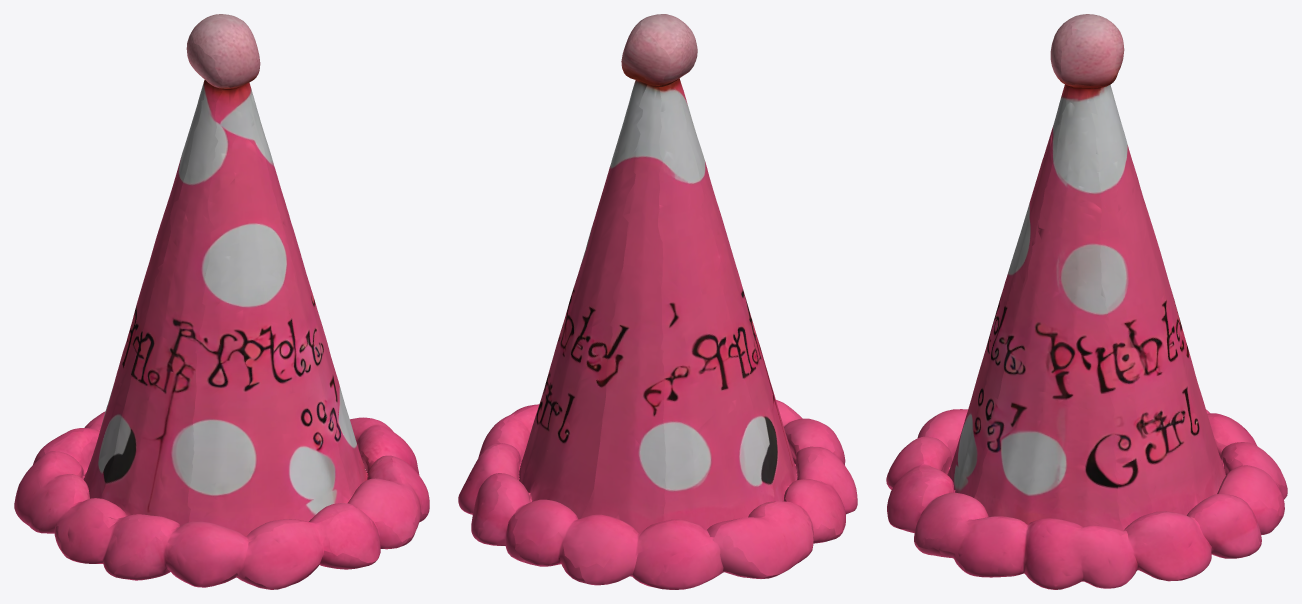
Rendered from bhat.glb.
The picture shows the model from 3 angles, left to right: view 1: azimuth 30°, elevation 25°; view 2: azimuth 150°, elevation 25°; view 3: azimuth 270°, elevation 25°; orthographic projection.
Visible parts, largest first — view 1: textured_mesh; view 2: textured_mesh; view 3: textured_mesh.
Boxes of the visible parts, left/top/right/bottom form: textured_mesh: left=14, top=14, right=429, bottom=589; textured_mesh: left=458, top=14, right=857, bottom=589; textured_mesh: left=886, top=14, right=1287, bottom=589.
Bounding box in the file's own units: 1.47 × 1.99 × 1.48.
Materials: 1 (1 with a texture image).
